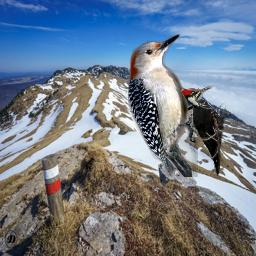Woodpecker: (128, 34, 198, 177), (181, 85, 226, 181)
